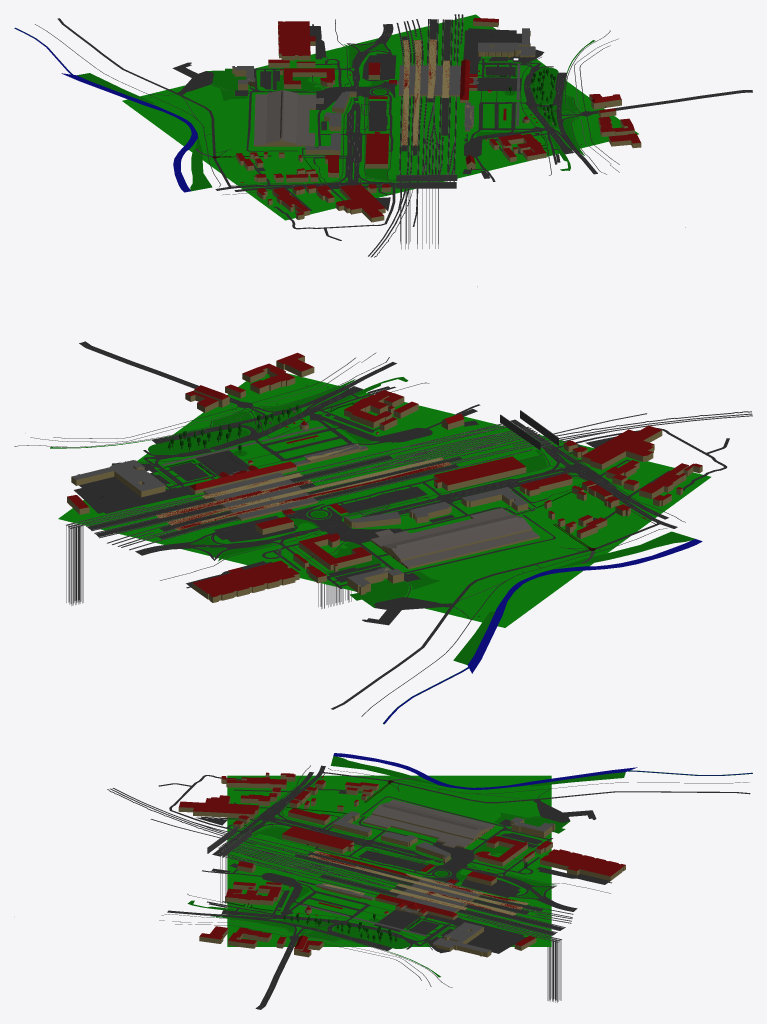
Rendered from Bahnhof_Platz1.obj.
3 views of the same model, one above another, from view 1: azimuth 30°, elevation 25°; view 2: azimuth 150°, elevation 25°; view 3: azimuth 270°, elevation 25° (orthographic). The views are drawn at different scales.
Visible parts, largest first — view 1: SurfaceArea1353, SurfaceArea1355, SurfaceArea1354, SurfaceArea1356, Building Lokhalle, Building Bahnhof, Road Bahnhofsallee, Building1288, Water1284, object 507, Building1238, SurfaceParking1319 (+27 smaller); view 2: SurfaceArea1353, SurfaceArea1355, SurfaceArea1354, SurfaceArea1356, Building Lokhalle, Building Bahnhof, Building1288, Road Bahnhofsallee, SurfaceParking1319, Building Parkhaus Bahnhofsallee, Water1284, Building1238 (+30 smaller); view 3: SurfaceArea1353, SurfaceArea1355, SurfaceArea1354, SurfaceArea1356, Building Lokhalle, Building Bahnhof, Building1288, Road Bahnhofsallee, Water1284, Building Parkhaus Bahnhofsallee, Building1238, Building CinemaxX (+31 smaller).
Boxes of the visible parts, x1,y1,x2,y2 form: SurfaceArea1353: (183, 102, 461, 220); SurfaceArea1355: (360, 59, 638, 177); SurfaceArea1354: (122, 59, 359, 145); SurfaceArea1356: (303, 14, 536, 102); Building Lokhalle: (254, 102, 314, 146); Building Bahnhof: (397, 59, 477, 102); Road Bahnhofsallee: (254, 24, 393, 182); Building1288: (278, 21, 315, 60); Water1284: (61, 73, 197, 192); object 507: (523, 64, 597, 174); Building1238: (477, 28, 535, 57); SurfaceParking1319: (463, 28, 521, 55); SurfaceArea1353: (359, 422, 710, 571); SurfaceArea1355: (137, 373, 487, 516); SurfaceArea1354: (289, 517, 582, 627); SurfaceArea1356: (58, 467, 358, 567); Building Lokhalle: (410, 508, 539, 560); Building Bahnhof: (190, 461, 317, 520); Building1288: (192, 560, 299, 602); Road Bahnhofsallee: (135, 462, 578, 586); SurfaceParking1319: (74, 477, 171, 513); Building Parkhaus Bahnhofsallee: (433, 456, 526, 491); Water1284: (467, 539, 702, 673); Building1238: (71, 460, 165, 497); SurfaceArea1353: (227, 775, 429, 861); SurfaceArea1355: (227, 861, 429, 946); SurfaceArea1354: (430, 775, 551, 861); SurfaceArea1356: (430, 861, 551, 946); Building Lokhalle: (362, 799, 466, 838); Building Bahnhof: (375, 877, 482, 920); Building1288: (540, 849, 625, 880); Road Bahnhofsallee: (264, 814, 577, 911); Water1284: (333, 753, 637, 789); Building Parkhaus Bahnhofsallee: (282, 826, 353, 853); Building1238: (433, 922, 491, 957); Building CinemaxX: (436, 818, 494, 848).
Bounding box in the file's own units: 900 × 115 × 1094.
